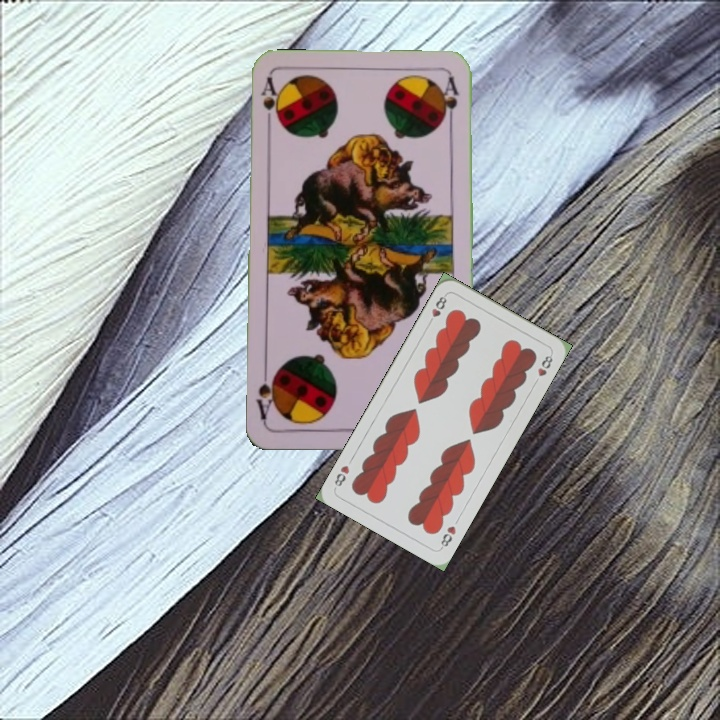H8: (424, 290, 449, 328), (437, 522, 459, 552)
SA: (256, 74, 281, 133)
